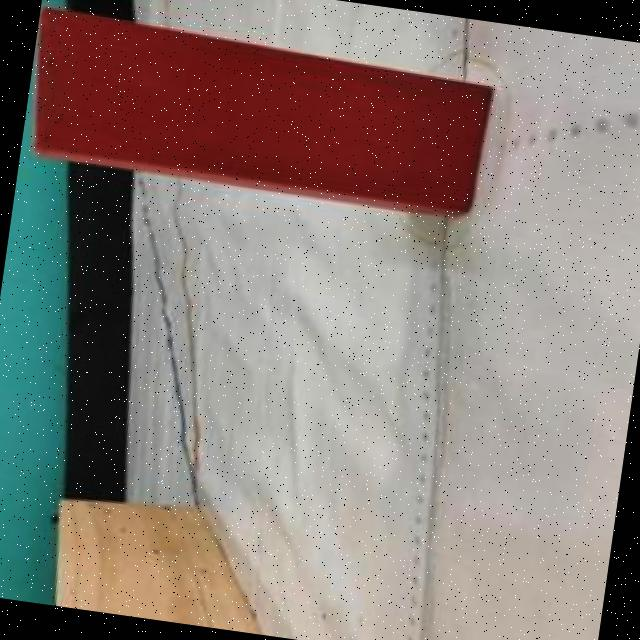redbox: (20, 5, 498, 224)
